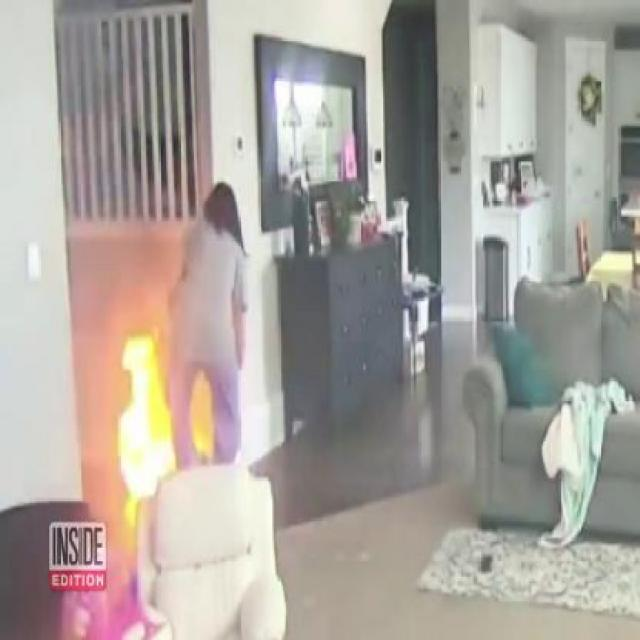fire: (116, 341, 184, 507)
smoke: (78, 231, 170, 317), (64, 366, 108, 484)
